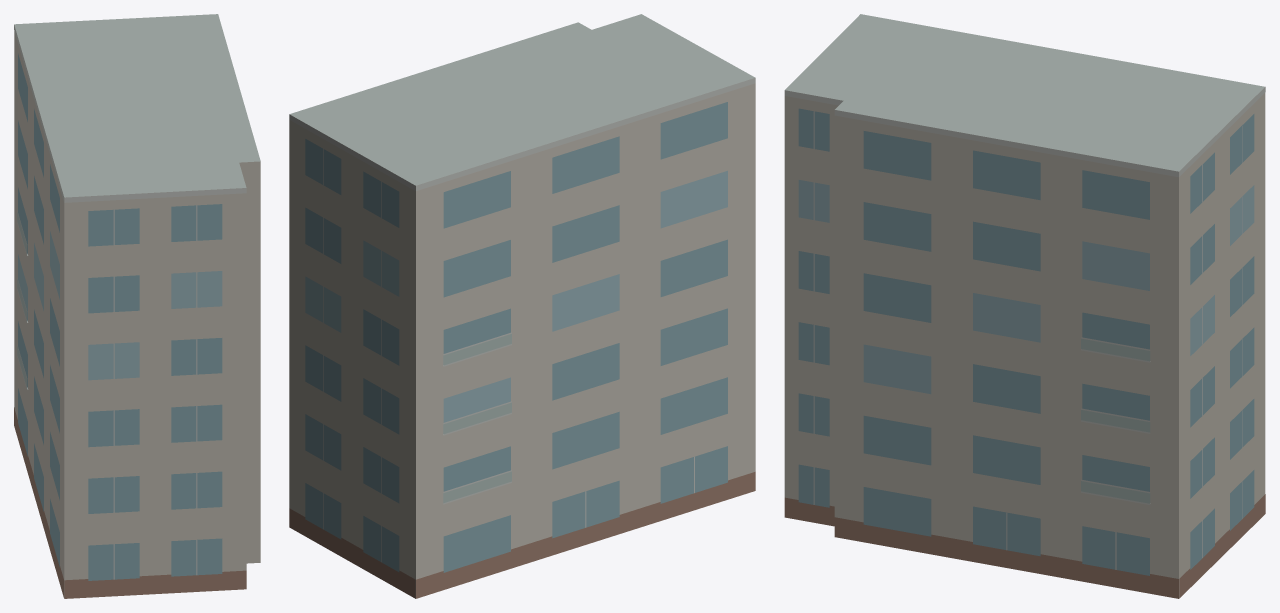
Rendered from survey-upis-33015693.glb.
The picture shows the model from 3 angles, left to right: view 1: azimuth 30°, elevation 25°; view 2: azimuth 150°, elevation 25°; view 3: azimuth 270°, elevation 25°; orthographic projection. The views are drawn at different scales.
Visible parts, largest first — view 1: survey-upis-33015693.tmp; view 2: survey-upis-33015693.tmp; view 3: survey-upis-33015693.tmp.
Boxes of the visible parts, box(x1,y1,x2,y2) form: survey-upis-33015693.tmp: box(14, 14, 260, 598); survey-upis-33015693.tmp: box(289, 14, 755, 598); survey-upis-33015693.tmp: box(784, 14, 1265, 598).
Size of the model in its own units: 14.49 by 18.3 by 18.67.
